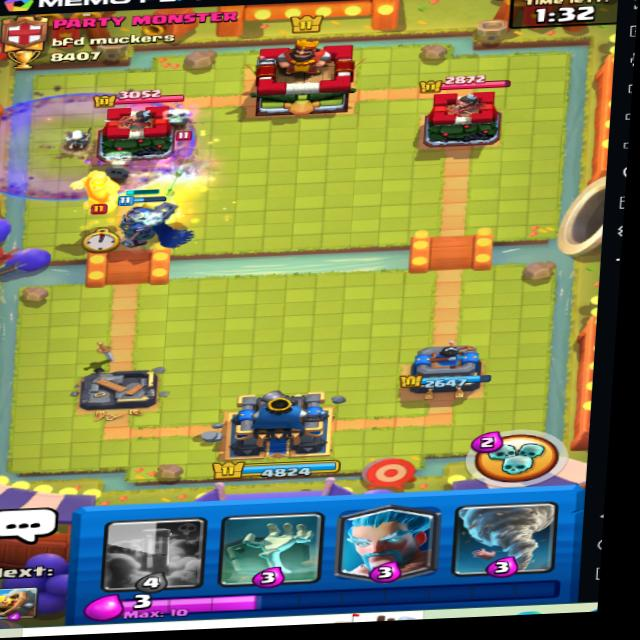Knight: (67, 170, 122, 237)
Queen: (156, 131, 235, 192)
Queenability: (161, 129, 219, 190)
